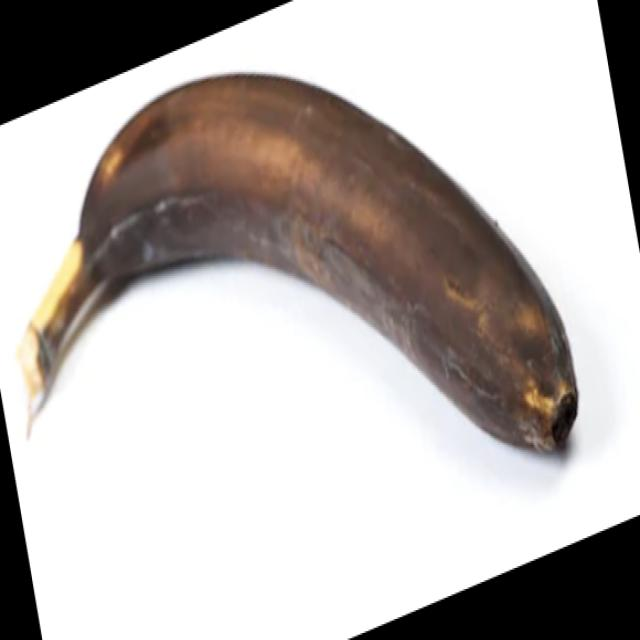Rotten: (10, 71, 579, 456)
